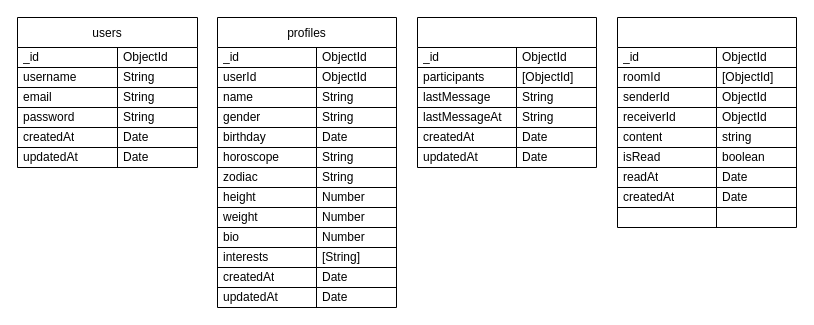
Some shapes in this 814 by 325 pixel diagram are drawn without their labels. The shapes that lost their labels are listed below. From the top down, each one's box as (x1, y1, x2, y2) in pixels, then its label:
(416, 16, 596, 168): chat_rooms
(616, 16, 796, 228): chat_messages
